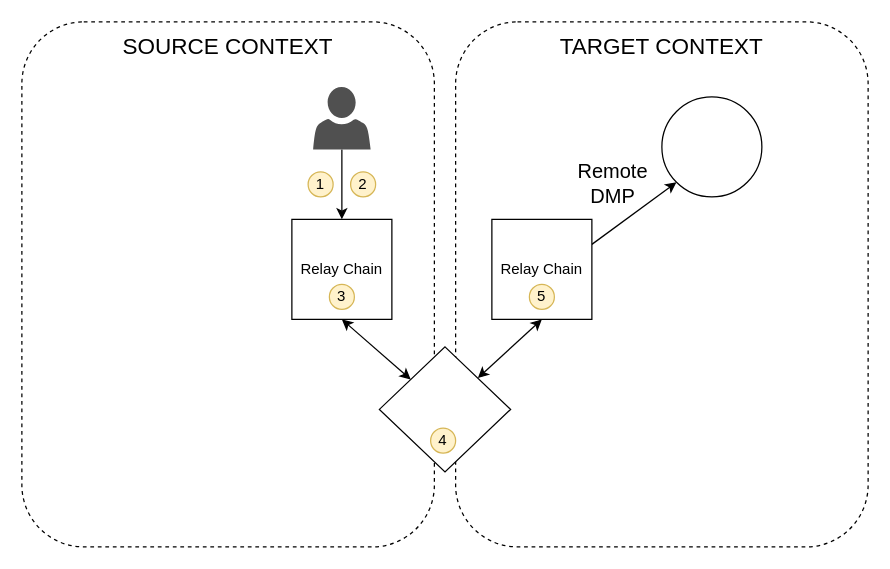
Some shapes in this 890 by 569 pixel diagram are drawn without their labels. The shapes that lost their labels are listed below. From the top down, each one's box as (x1, y1, x2, y2) in pixels, then its label:
(661, 96, 762, 197): Parachain
(378, 346, 511, 472): Bridge Relay
